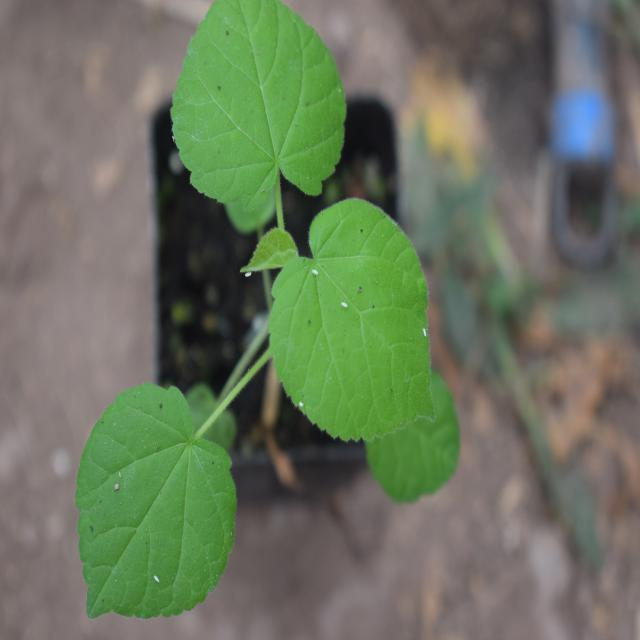abutilon theophrasti: (82, 0, 470, 608)
